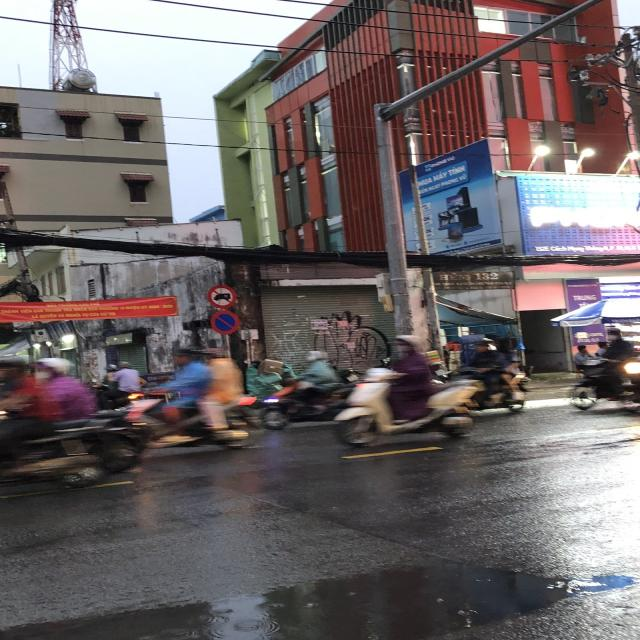Bien bao cam do xe: (207, 309, 243, 336)
Bien bao cam xe oto tai: (204, 284, 239, 309)
